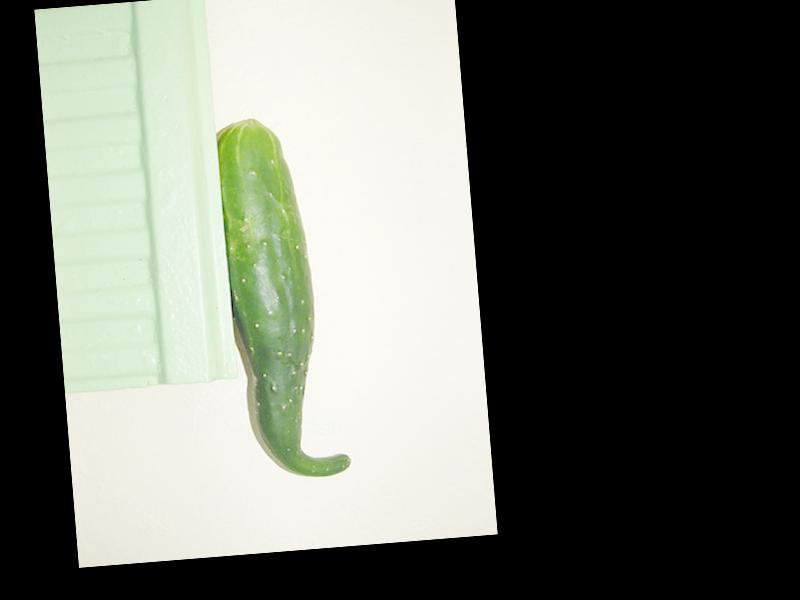Cucumber: (215, 113, 350, 484)
